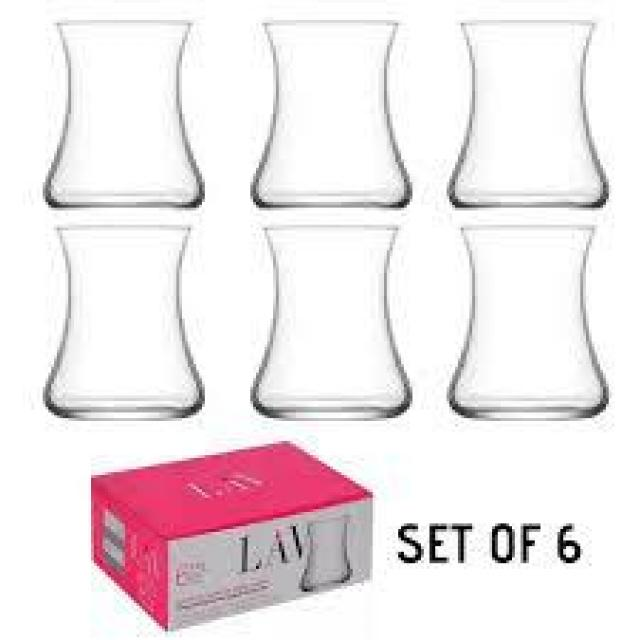non-organic waste: (245, 18, 418, 212)
